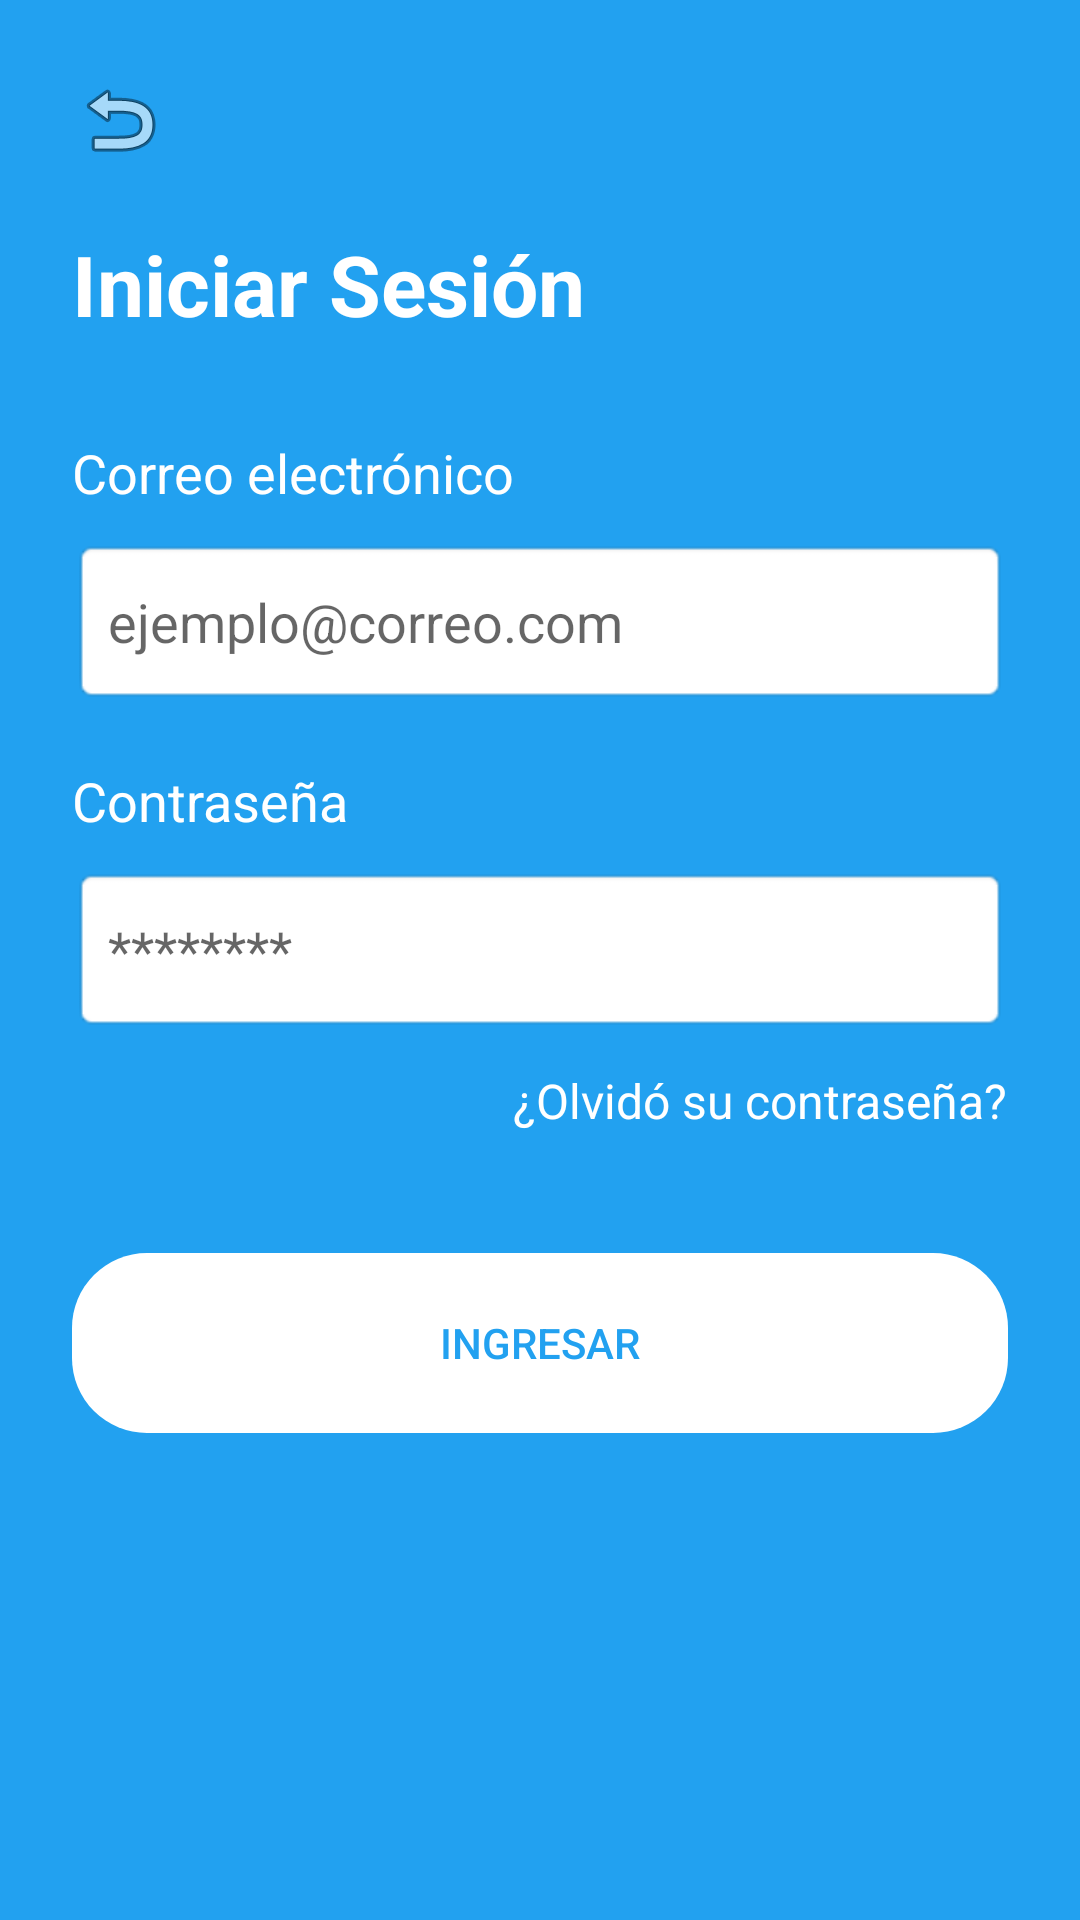

Locate icon controls on the screen. Image size 1080 × 1920, boxes as (x1, y1, x2, y2).
revert: (87, 89, 156, 152)
